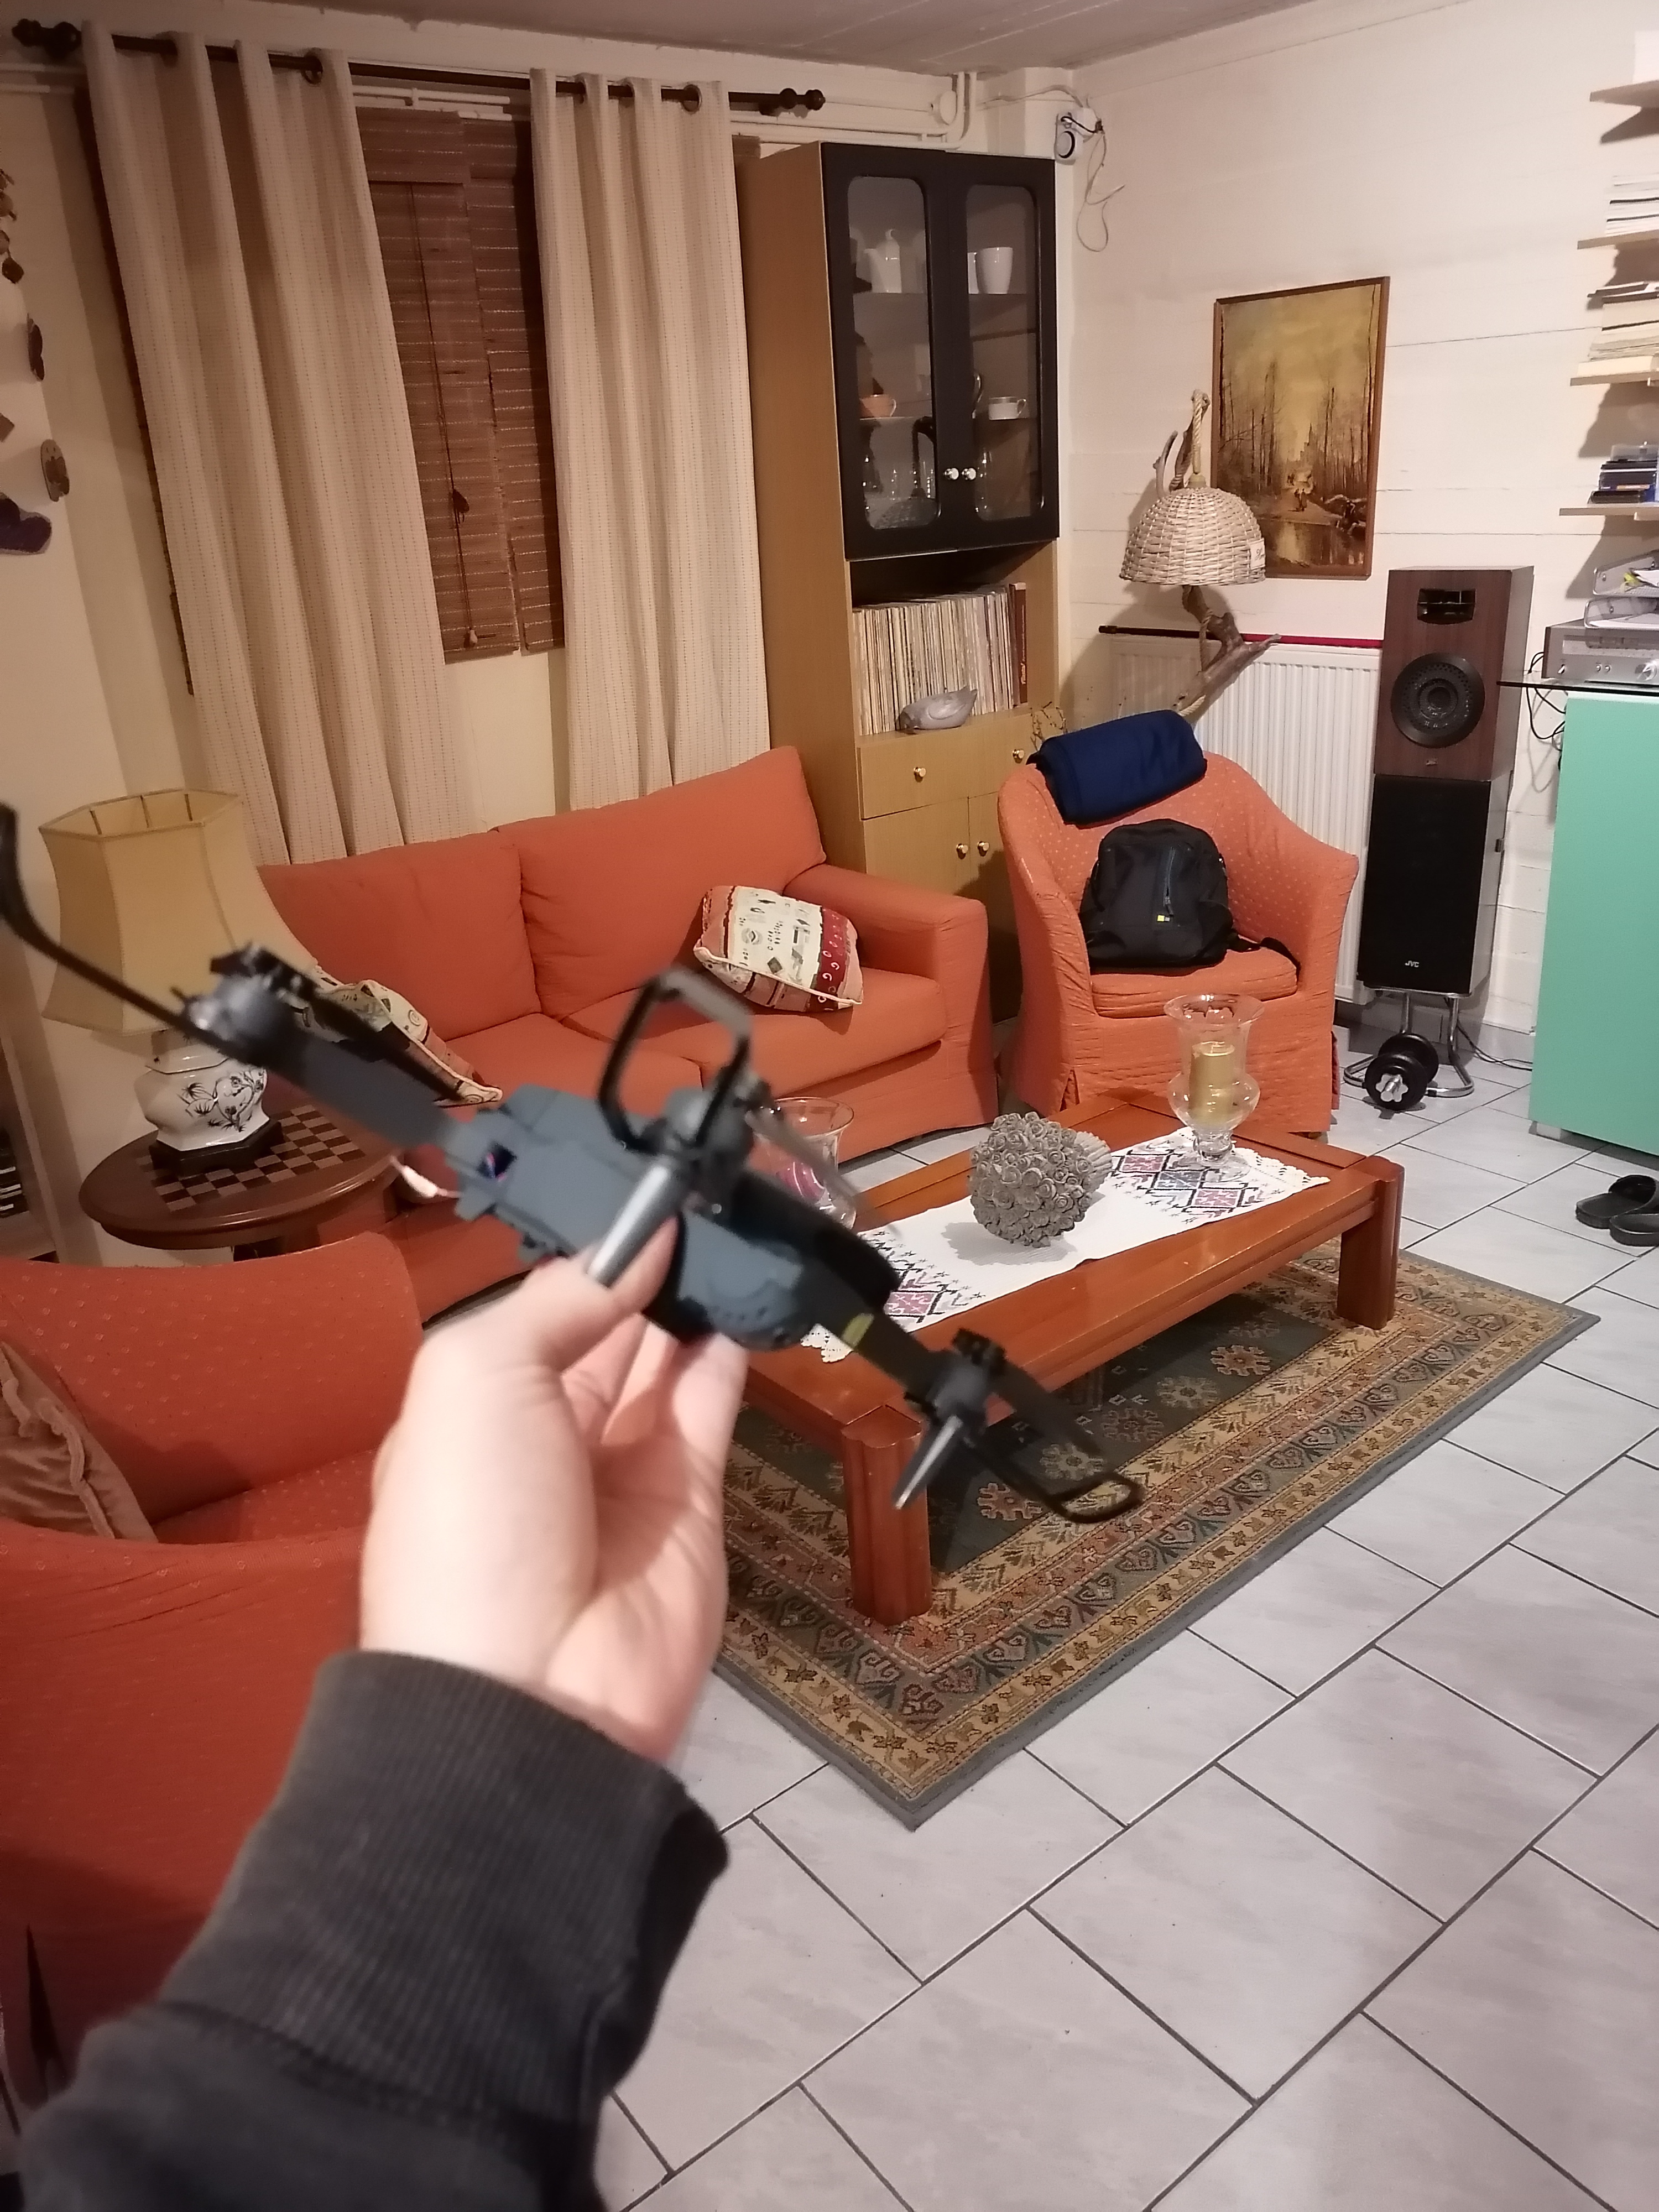drone: (2, 796, 1215, 1541)
